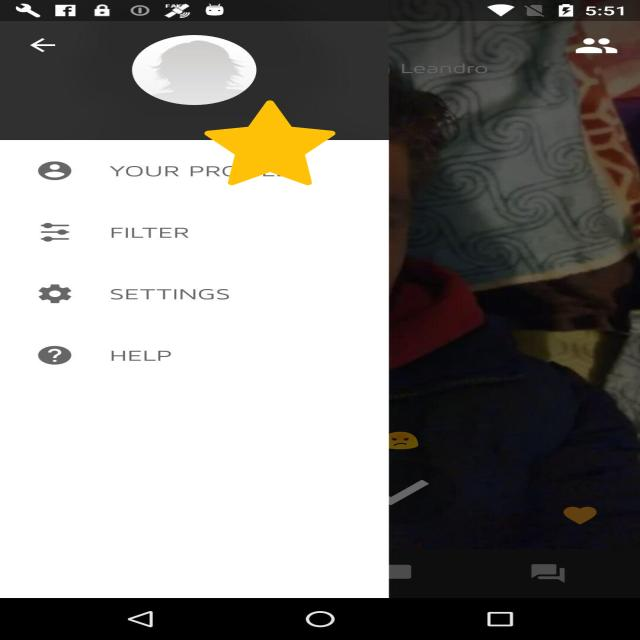forced continuity: (204, 100, 336, 186)
